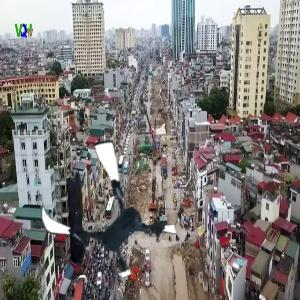drone: (41, 143, 177, 279)
